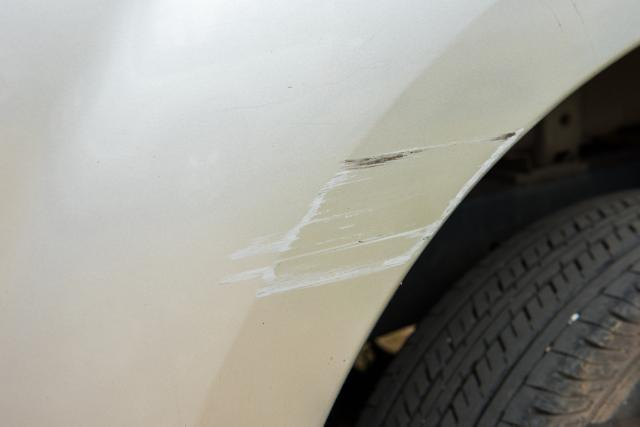scratch: (210, 124, 527, 302)
